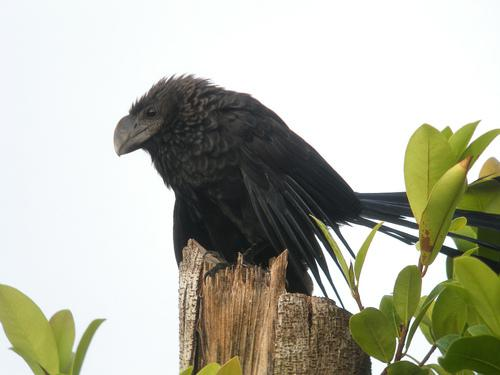004.Groove_billed_Ani: (113, 75, 493, 281)
